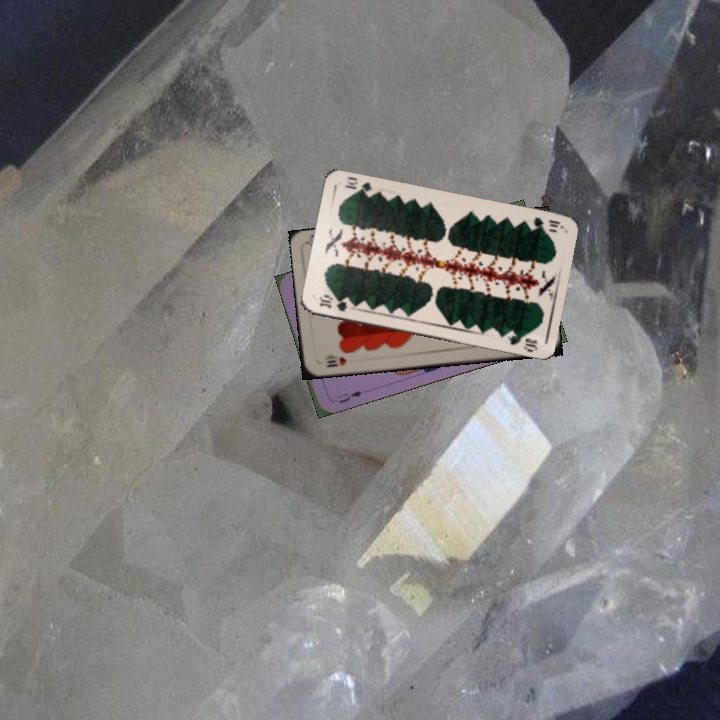EU: (333, 386, 368, 406)
G10: (315, 292, 350, 314), (529, 213, 563, 233)
H10: (321, 352, 349, 370)
